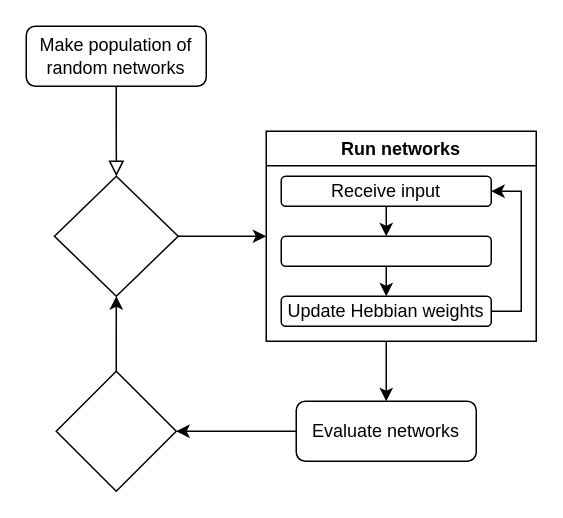
The diagram is 563 pixels wide and 518 high, and some of its shapes have lost their labels. Here are the shapes that lost their labels. From the top down, the centre of each, then its label:
At [115,235]: "Mutate networks".
At [385,250]: "Compare input to output".
At [115,430]: "Combine networks".
